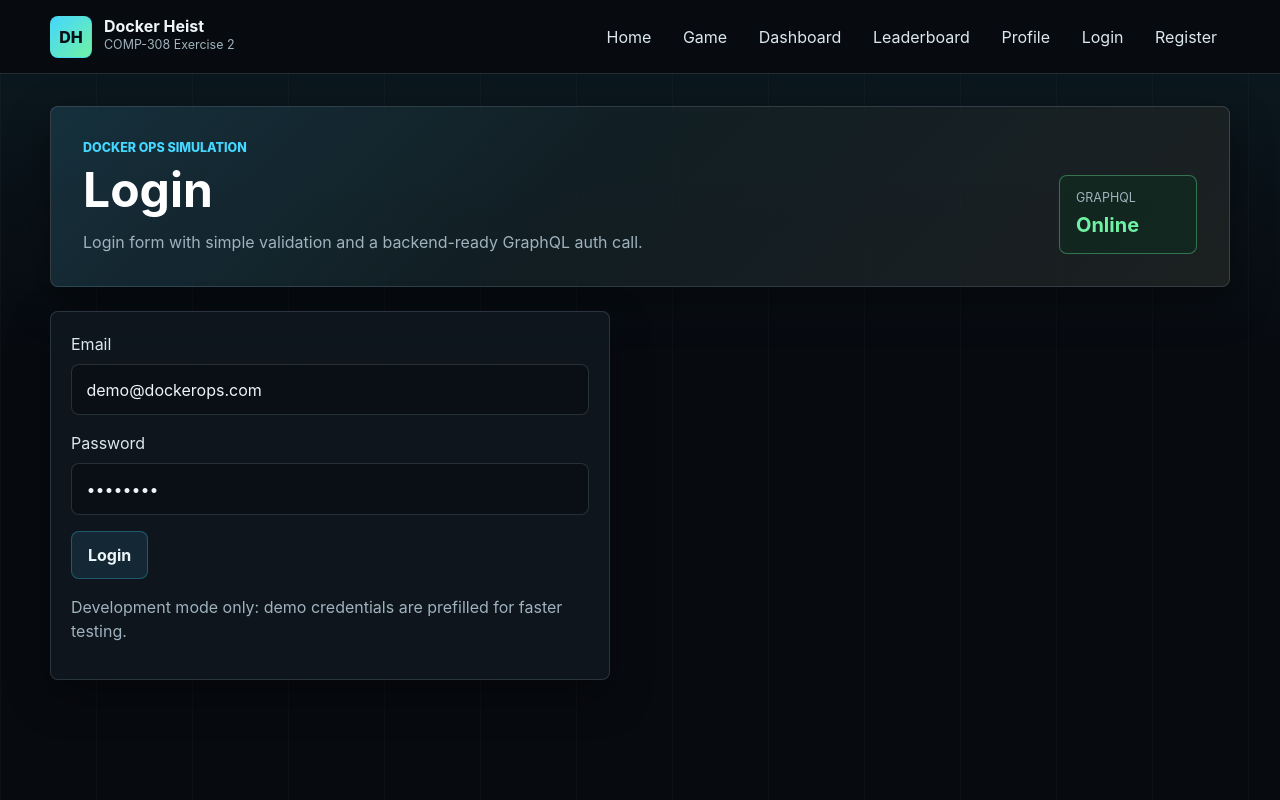
it: LoginPage › handles invalid credentials mock response
The width and height of the screenshot is (1280, 800).
Replace the text in the field labelled "Email" with "wrong@dockerops.com" at (330, 390), box [71,364,589,415]
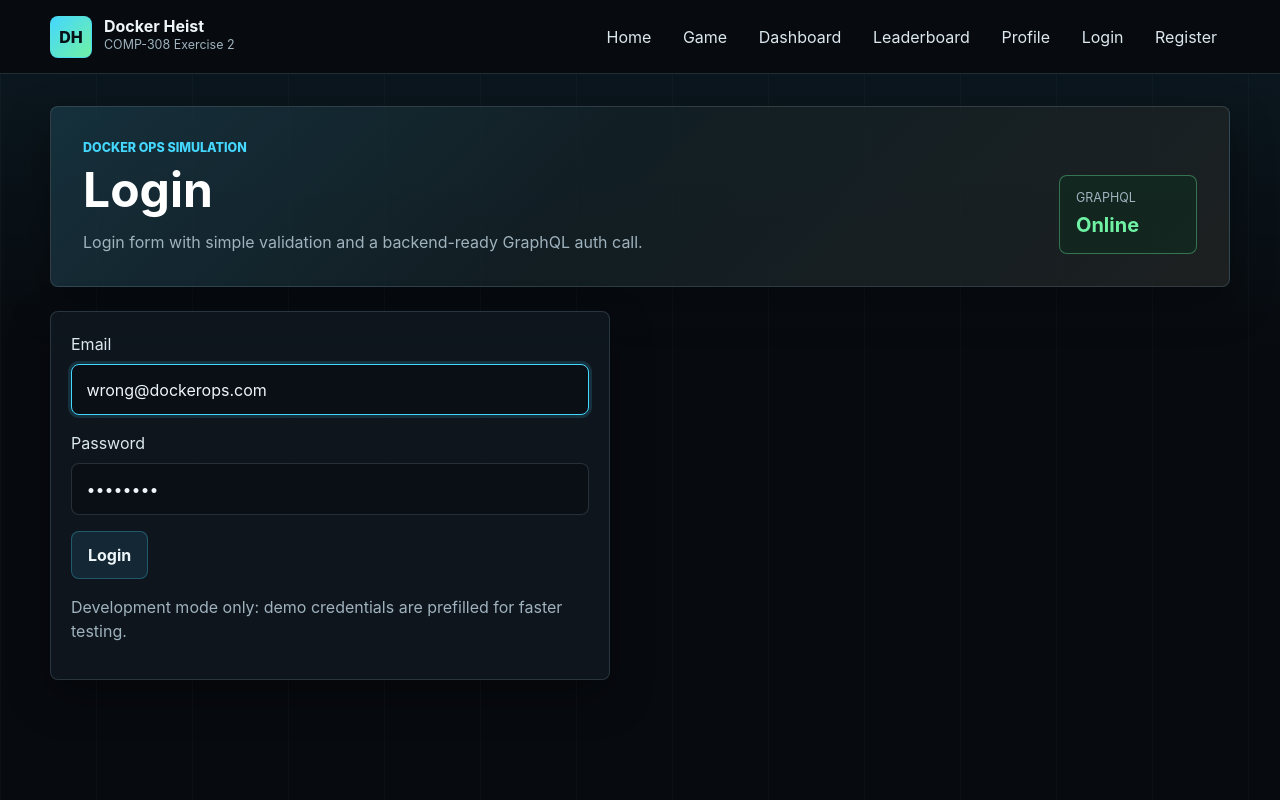
Type "Wrong123!" into the password field labelled "Password".
click(330, 489); type("Wrong123!")  # box [71,463,589,515]
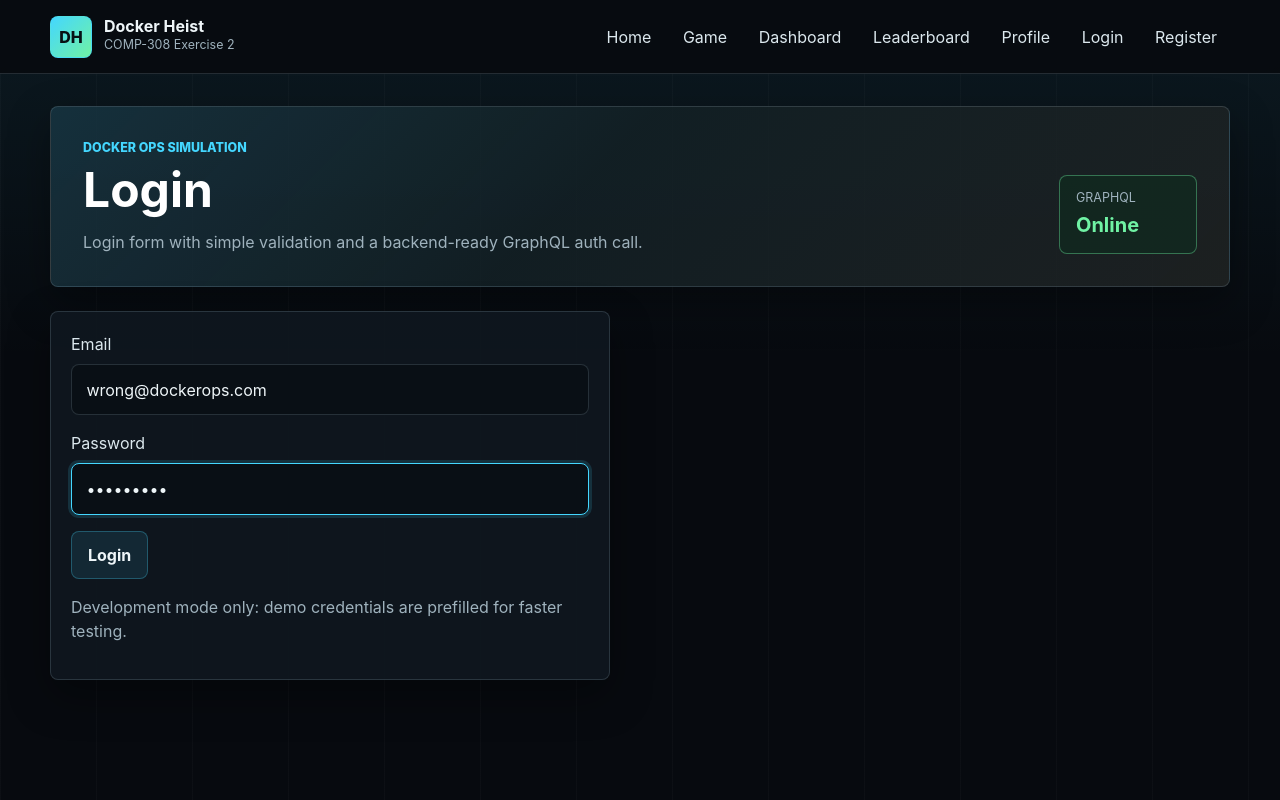
Click the button "Login".
click(110, 555)  # box [71,531,148,579]
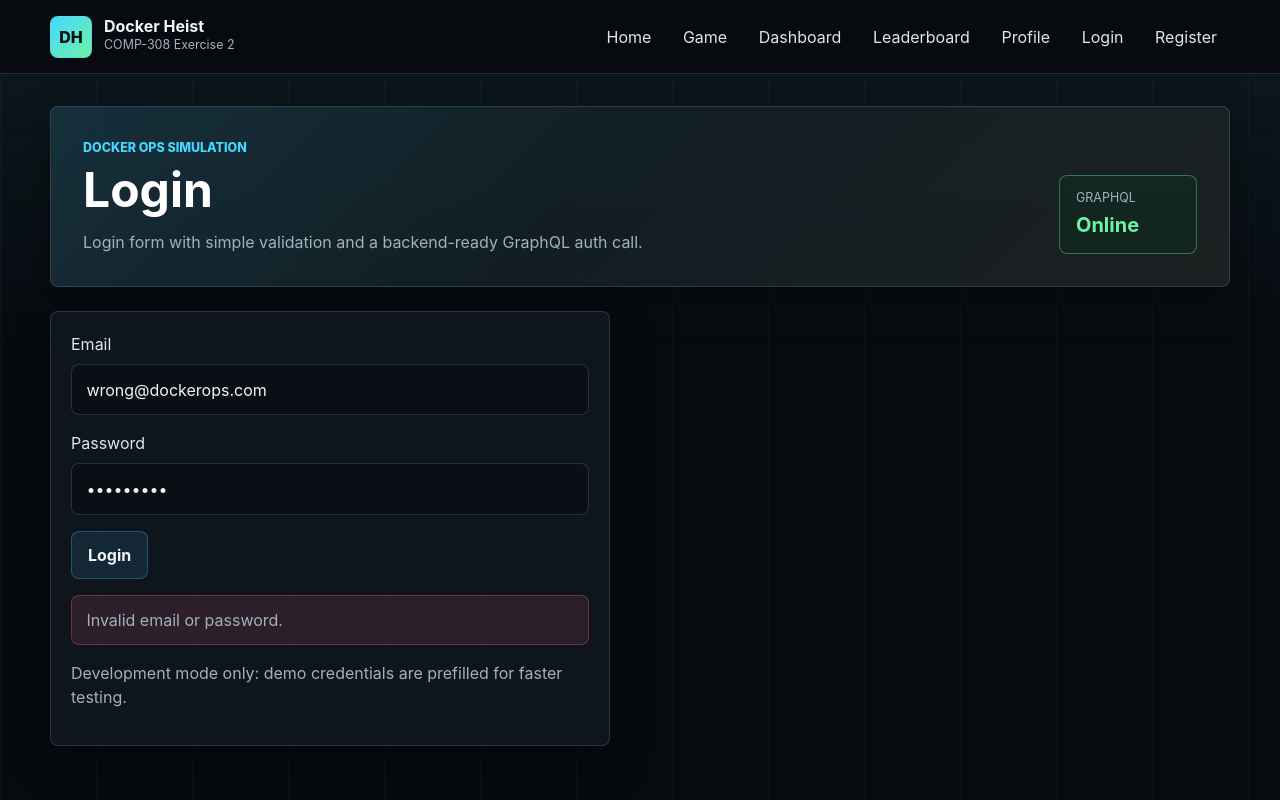
Now the message reads "Invalid email or password.", box [86,610,283,630]
